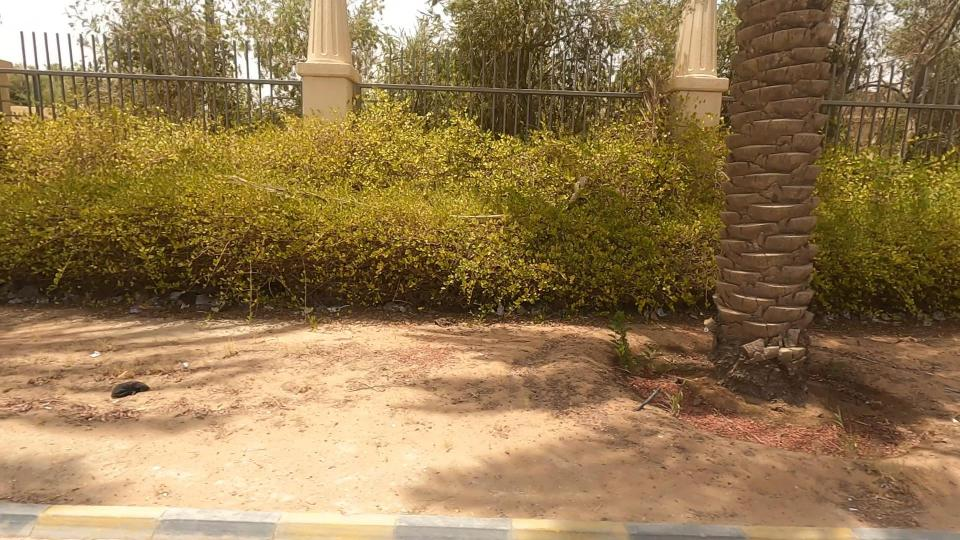GARBAGE: (76, 353, 180, 425)
